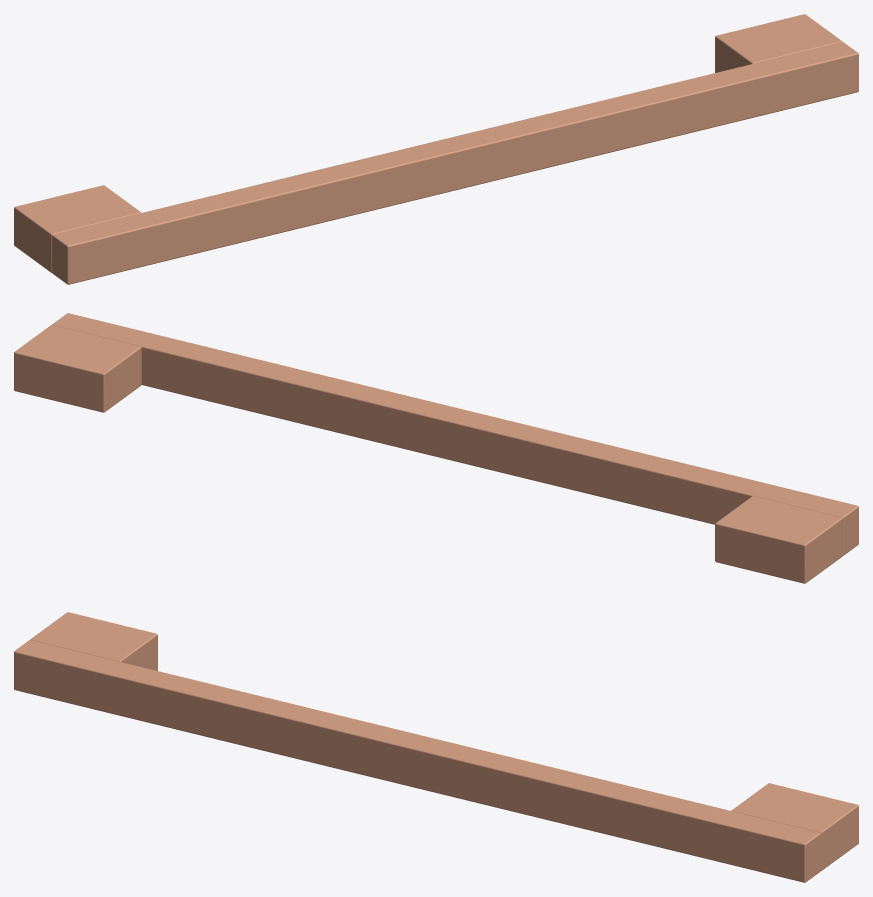
File: eurofit-h-108-224sb.glb
3 views of the same model, one above another, from view 1: azimuth 30°, elevation 25°; view 2: azimuth 150°, elevation 25°; view 3: azimuth 330°, elevation 25° (orthographic).
Visible parts, largest first — view 1: Blade grip, Mounting standoff, Mounting standoff.001; view 2: Blade grip, Mounting standoff.001, Mounting standoff; view 3: Blade grip, Mounting standoff.001, Mounting standoff.
Part boxes in pixels (<box>): Blade grip: <box>52,42,858,284</box>; Mounting standoff: <box>14,185,141,272</box>; Mounting standoff.001: <box>715,14,842,72</box>; Blade grip: <box>52,313,858,555</box>; Mounting standoff.001: <box>14,325,141,412</box>; Mounting standoff: <box>715,496,842,583</box>; Blade grip: <box>14,640,820,882</box>; Mounting standoff.001: <box>731,783,858,870</box>; Mounting standoff: <box>30,612,157,670</box>.
Size of the model in its own units: 0.253 by 0.012 by 0.03.
